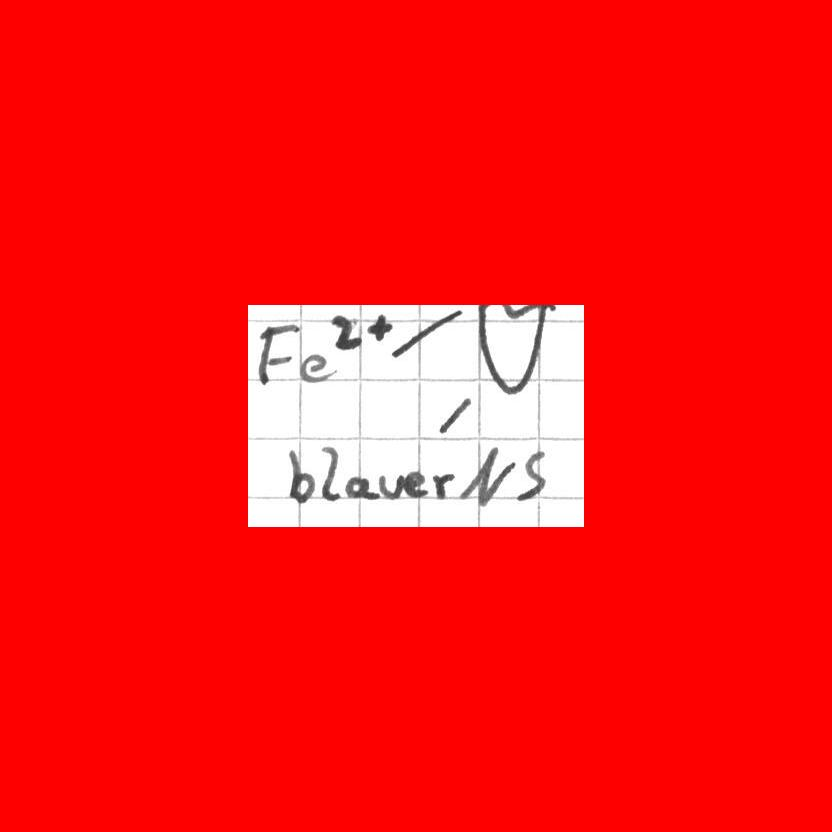Char: (457, 444, 517, 509), (256, 322, 299, 387), (515, 448, 548, 504), (285, 447, 316, 506), (320, 444, 342, 503), (329, 313, 363, 351), (298, 352, 336, 385), (365, 311, 394, 343), (344, 475, 379, 501), (402, 469, 430, 498), (377, 473, 404, 500), (431, 472, 456, 501)
